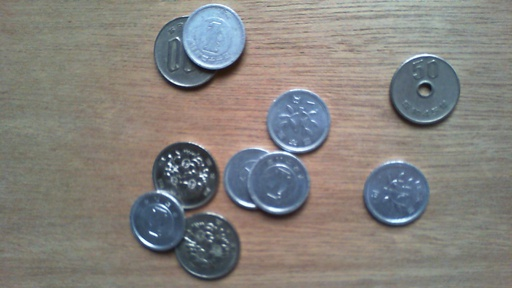100yen: (153, 15, 223, 88), (172, 212, 240, 280), (152, 141, 219, 210)
1yen: (362, 160, 429, 227), (181, 4, 245, 70), (266, 88, 330, 153), (246, 151, 309, 216), (222, 147, 278, 210), (129, 189, 185, 252)
